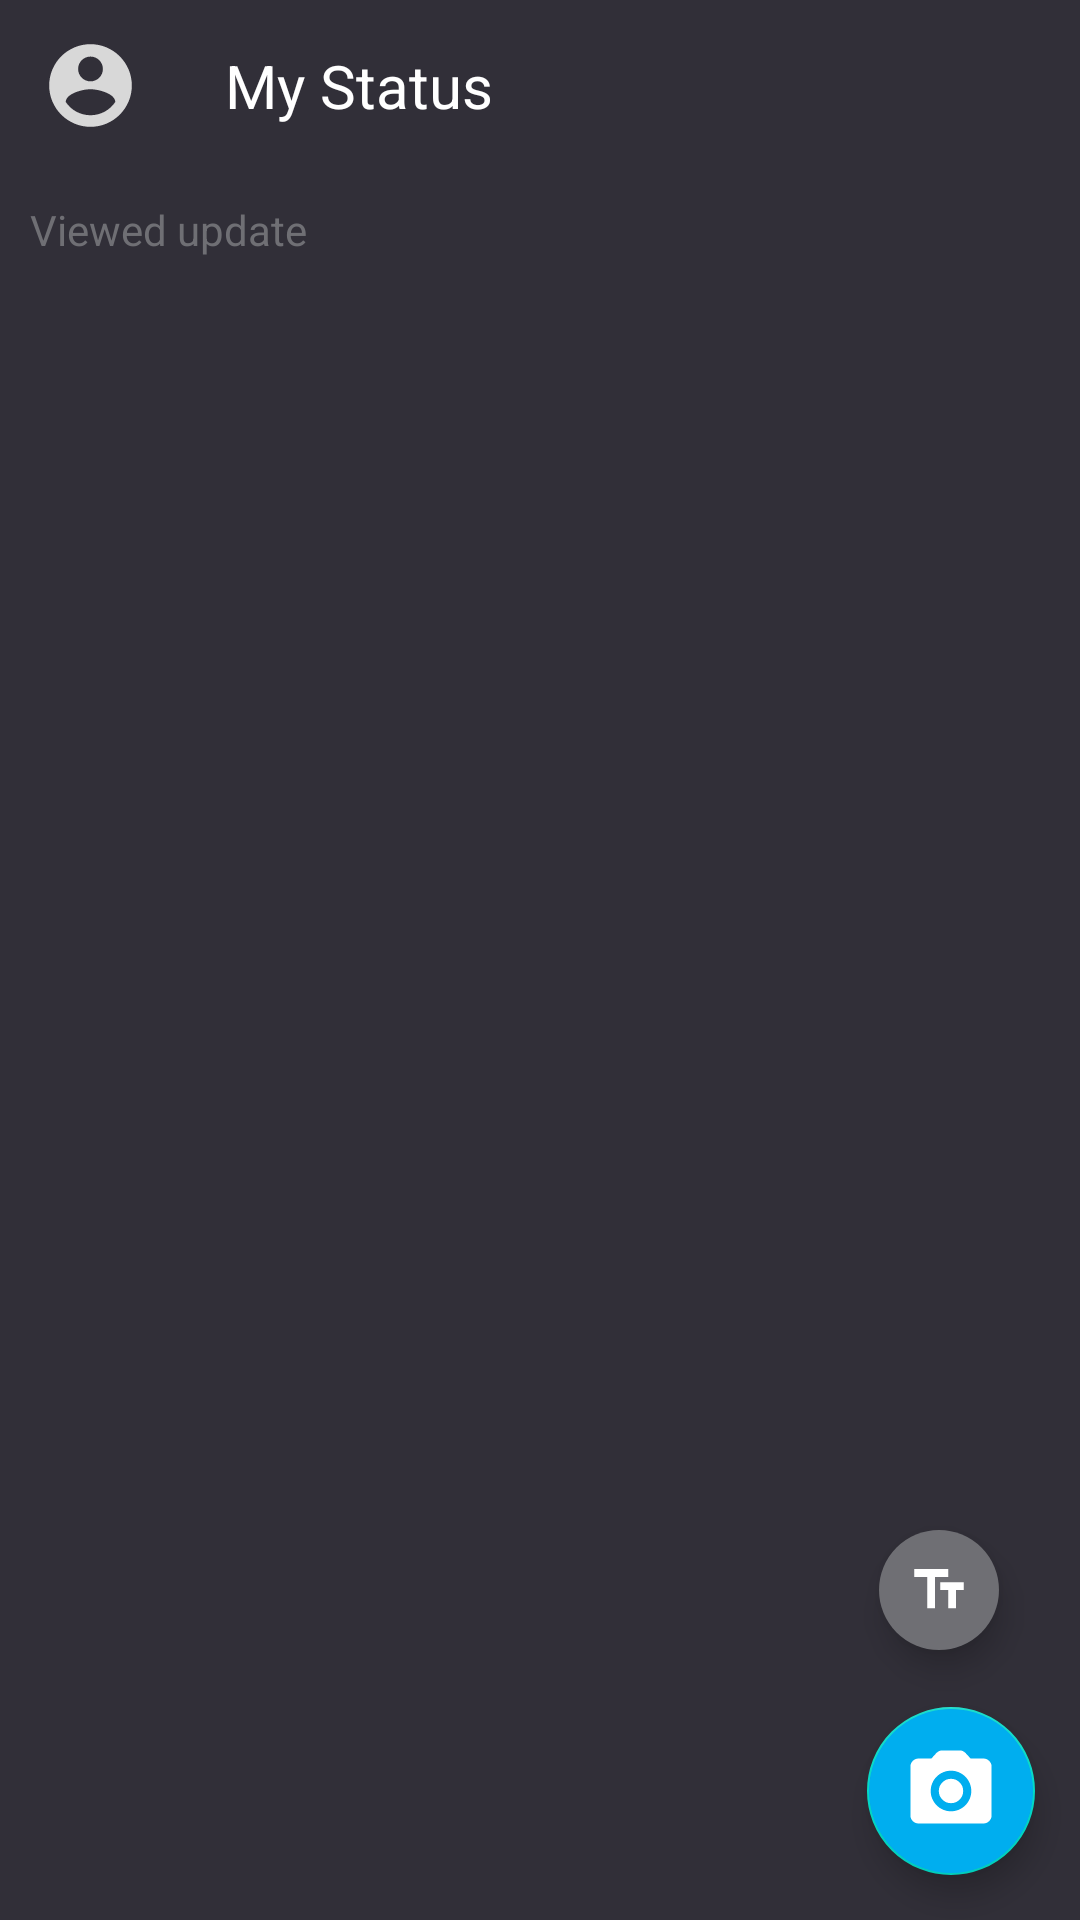

Named icons in this screenshot (1080w x 1920h) and their bounding boxes, (x1, y1, x2, y2):
account: (49, 44, 132, 127)
camera: (867, 1707, 1035, 1875)
text: (879, 1530, 999, 1650)
